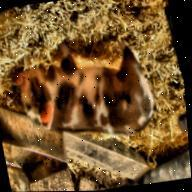boar: (7, 29, 164, 152)
